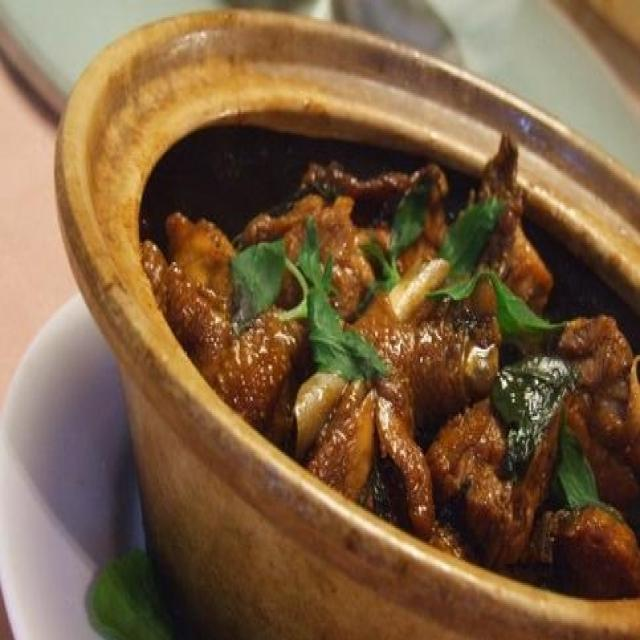鸡肉料理 含炸鸡: (91, 31, 635, 612)
